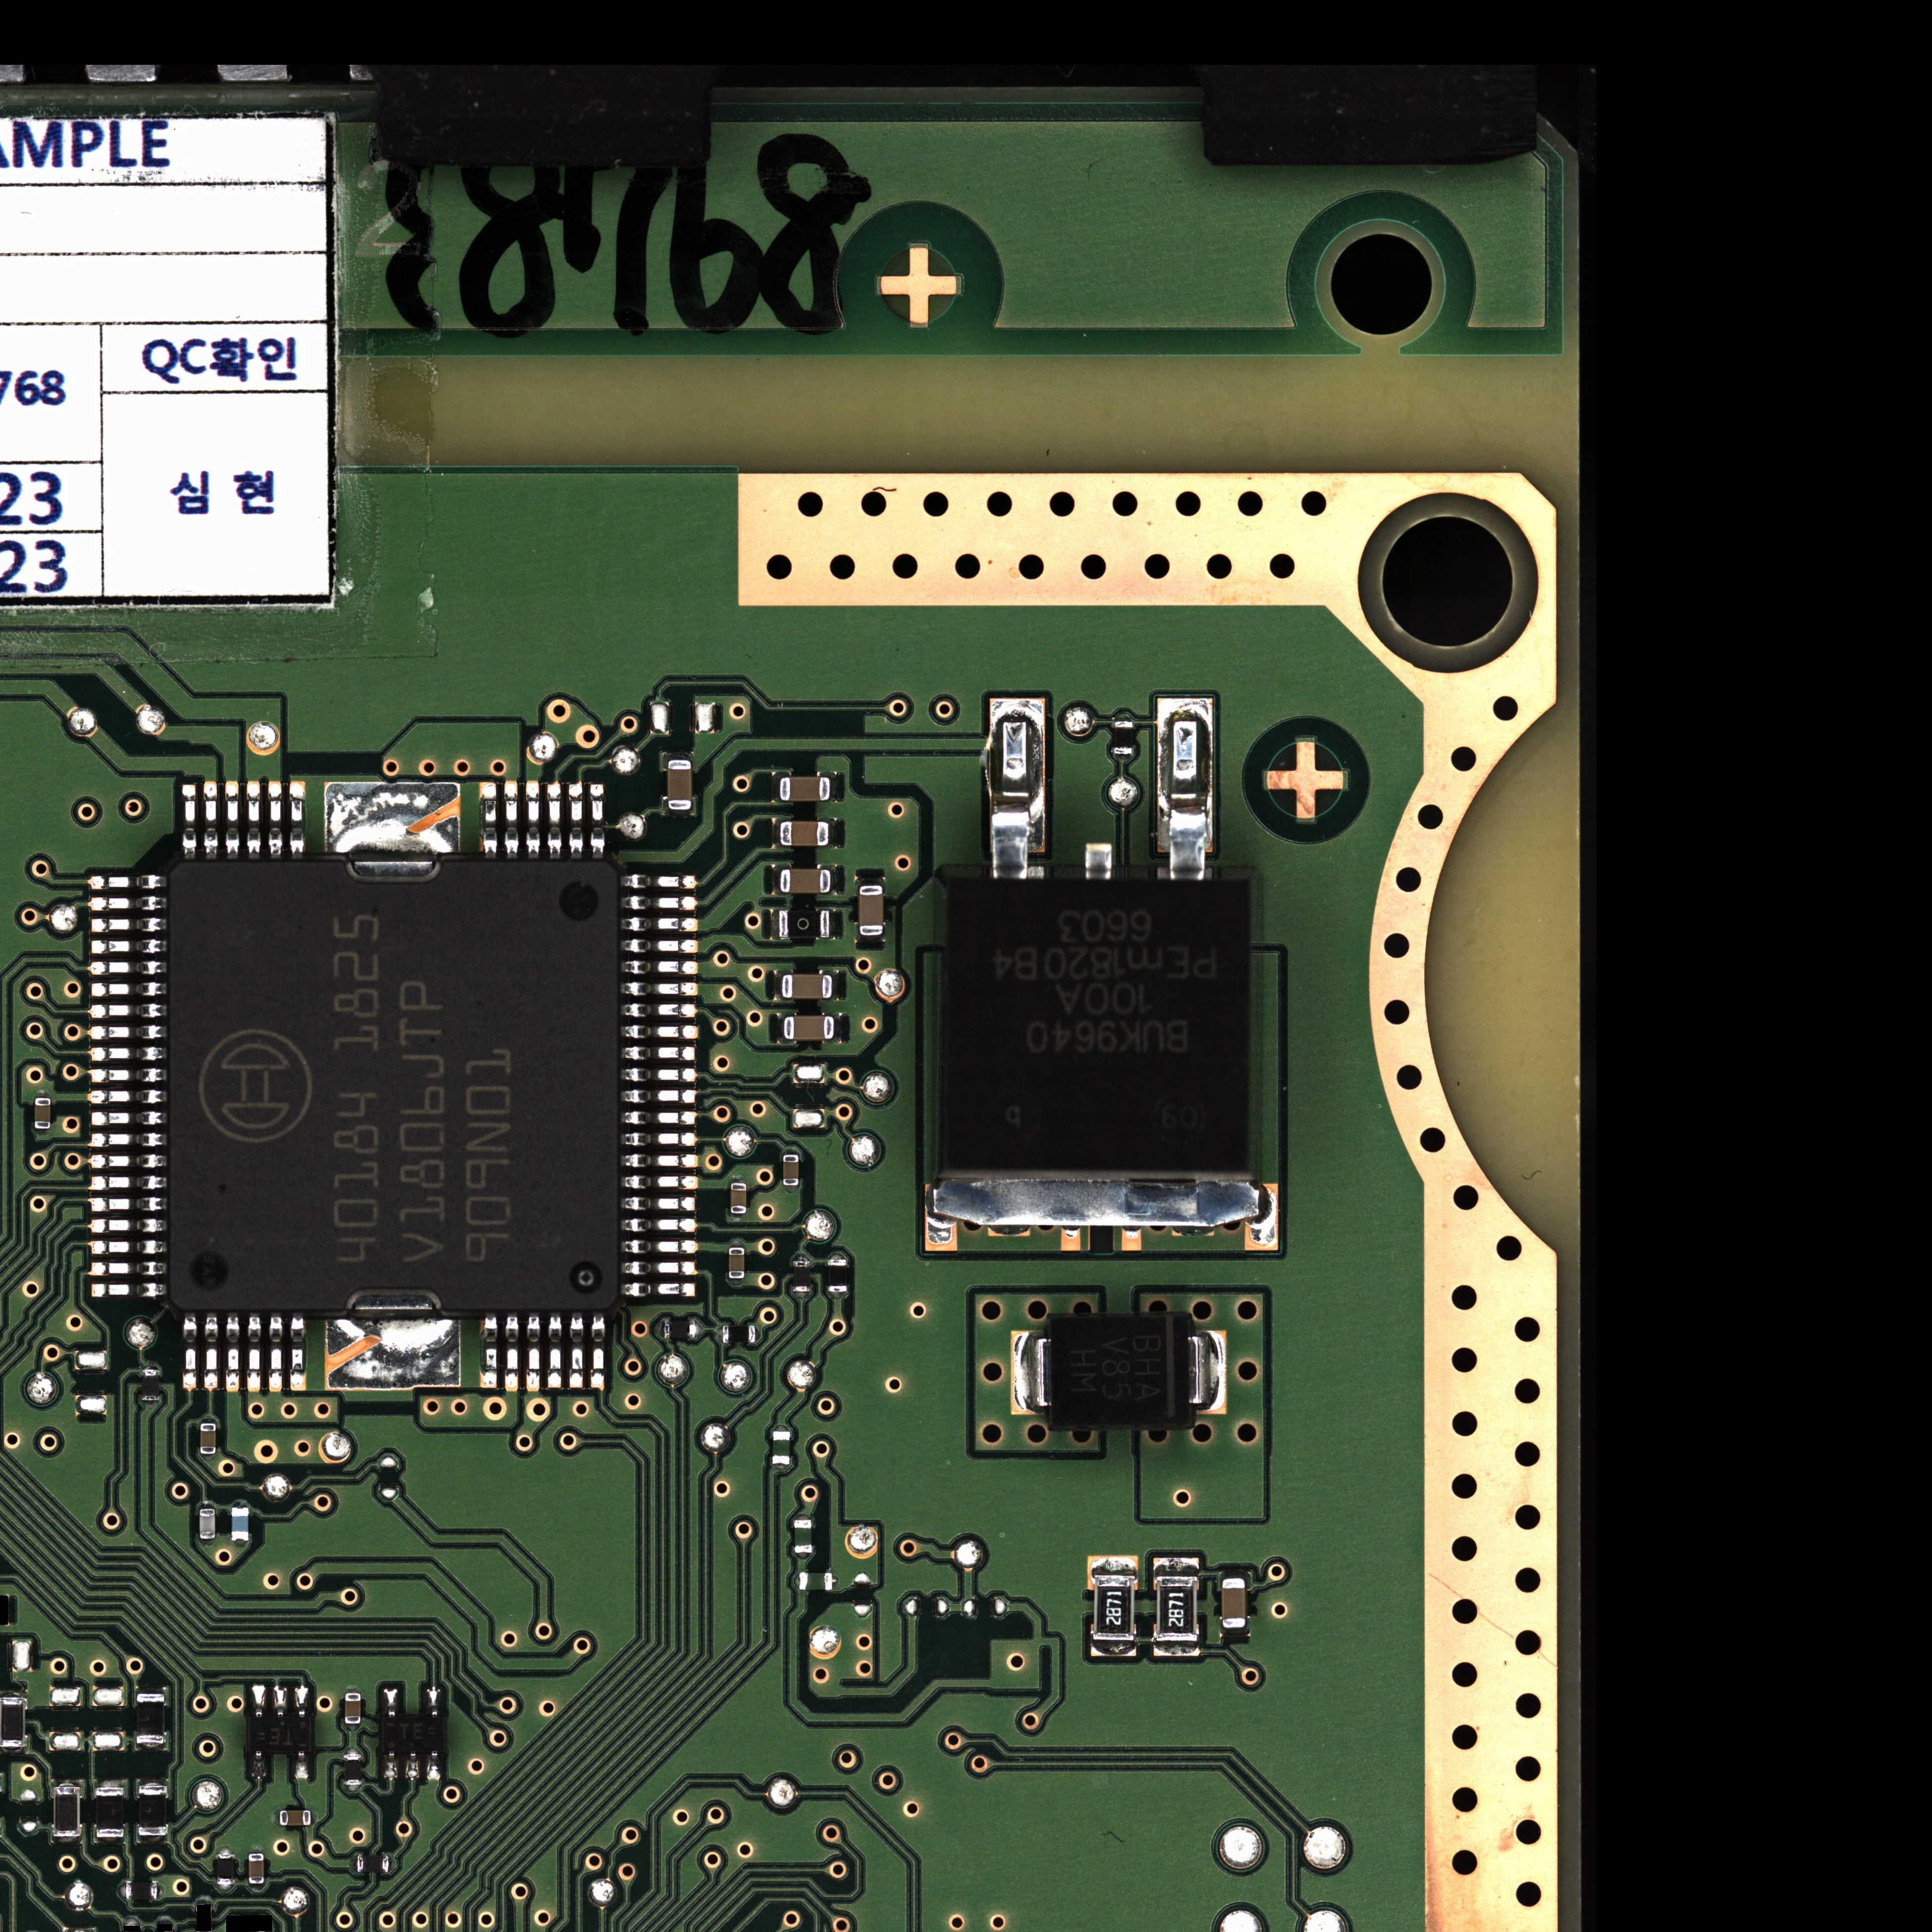Package: (167, 859, 619, 1310), (948, 881, 1249, 1169), (1051, 1315, 1190, 1428), (1094, 1575, 1135, 1641), (1156, 1576, 1197, 1642), (381, 1716, 444, 1752), (248, 1716, 312, 1751), (778, 910, 829, 938), (139, 1786, 167, 1835), (96, 1788, 124, 1837), (137, 1694, 164, 1743), (781, 974, 832, 999), (779, 776, 830, 801), (780, 869, 830, 894), (780, 821, 829, 846), (859, 886, 883, 935), (54, 1787, 79, 1836), (784, 1015, 834, 1040), (668, 760, 692, 810), (0, 1698, 25, 1746), (1222, 1579, 1246, 1628), (1113, 721, 1134, 755), (663, 1318, 696, 1339), (722, 1324, 756, 1343), (772, 1431, 790, 1464), (794, 1520, 812, 1553), (829, 1259, 847, 1292), (216, 1853, 235, 1885), (799, 1573, 832, 1590), (357, 1855, 389, 1873), (125, 1882, 157, 1899), (142, 1369, 159, 1401), (344, 1754, 362, 1785), (232, 1507, 248, 1540), (793, 1260, 810, 1292), (200, 1423, 216, 1454), (35, 1098, 50, 1128), (783, 1155, 799, 1185), (280, 1810, 310, 1826), (248, 1854, 264, 1884), (731, 1183, 746, 1213), (345, 1693, 360, 1724), (200, 1509, 215, 1539), (729, 1248, 744, 1278)
Solder: (925, 1175, 1277, 1252), (987, 697, 1044, 879), (322, 781, 459, 857), (1157, 701, 1212, 881), (327, 1316, 459, 1389), (1011, 1331, 1050, 1414), (1191, 1330, 1226, 1414), (480, 1313, 497, 1390), (480, 781, 497, 860), (89, 896, 168, 912), (89, 1197, 167, 1212), (290, 1313, 306, 1391), (620, 1131, 698, 1147), (622, 1281, 697, 1298), (621, 1174, 698, 1190), (622, 1260, 699, 1276), (90, 1261, 167, 1277), (88, 875, 167, 890), (290, 781, 305, 860), (88, 1025, 167, 1040), (88, 1068, 166, 1083), (89, 1089, 167, 1105), (88, 1046, 166, 1062), (89, 1132, 167, 1148), (621, 960, 699, 975), (91, 1282, 166, 1298), (89, 1175, 166, 1191), (89, 1218, 167, 1234), (621, 1024, 699, 1040), (621, 981, 698, 997), (621, 1153, 699, 1168), (622, 1045, 697, 1061), (89, 1240, 166, 1255), (621, 1239, 698, 1255), (621, 1003, 698, 1018), (90, 982, 167, 997), (89, 961, 168, 975), (90, 1111, 166, 1126), (622, 1089, 698, 1104), (89, 1154, 167, 1169), (621, 1196, 697, 1211), (88, 1004, 166, 1018), (204, 1314, 219, 1392), (526, 1312, 541, 1391), (504, 1313, 519, 1391), (621, 917, 698, 931), (621, 895, 698, 910), (621, 1218, 698, 1233), (91, 939, 167, 954), (91, 918, 167, 932), (621, 1067, 697, 1082), (622, 1111, 698, 1125), (225, 781, 240, 860), (226, 1313, 240, 1392), (622, 874, 697, 889), (569, 1313, 584, 1389), (269, 1313, 283, 1392), (247, 1313, 261, 1392), (548, 1313, 563, 1388), (504, 781, 519, 859), (526, 781, 540, 859), (621, 939, 698, 953), (246, 781, 261, 858), (183, 1314, 197, 1391), (591, 1312, 605, 1389), (547, 782, 562, 858), (268, 781, 282, 859), (204, 781, 218, 859), (569, 782, 583, 859), (182, 784, 196, 859), (590, 783, 604, 859), (1085, 843, 1112, 879), (1089, 1556, 1138, 1574), (1154, 1558, 1199, 1575), (1091, 1641, 1137, 1657), (1153, 1642, 1200, 1656), (251, 1685, 266, 1717), (273, 1686, 288, 1716), (293, 1686, 309, 1716), (405, 1752, 420, 1780), (426, 1752, 440, 1781), (384, 1689, 398, 1717), (294, 1751, 309, 1779), (251, 1751, 266, 1779), (384, 1752, 398, 1780), (427, 1688, 440, 1717), (772, 970, 782, 1000), (774, 1013, 784, 1042), (834, 1013, 843, 1043), (829, 909, 838, 938), (831, 970, 841, 999), (855, 876, 885, 885), (1220, 1628, 1250, 1637), (772, 865, 780, 895), (771, 909, 778, 940), (855, 936, 885, 944), (1219, 1570, 1250, 1578), (135, 1743, 166, 1751), (664, 752, 693, 760), (773, 819, 780, 848), (96, 1780, 125, 1787), (828, 819, 836, 848), (663, 810, 694, 817), (136, 1687, 165, 1694), (830, 866, 837, 895), (773, 773, 780, 802), (830, 772, 837, 802), (138, 1779, 168, 1786), (138, 1835, 167, 1842), (53, 1779, 80, 1787), (1113, 712, 1133, 721), (0, 1747, 26, 1754), (97, 1836, 124, 1843), (34, 1089, 51, 1098), (772, 1464, 791, 1472), (1112, 754, 1134, 761), (54, 1836, 80, 1842), (656, 1320, 664, 1339), (34, 1129, 51, 1137), (827, 1252, 847, 1259), (828, 1292, 847, 1299), (782, 1146, 799, 1155), (792, 1292, 811, 1300), (782, 1186, 800, 1194), (792, 1253, 810, 1260), (773, 1424, 791, 1431), (794, 1512, 812, 1520), (231, 1541, 249, 1548), (730, 1175, 746, 1183), (728, 1278, 745, 1286), (729, 1239, 744, 1248), (730, 1213, 747, 1221), (231, 1500, 249, 1507), (695, 1320, 702, 1338), (794, 1553, 812, 1560), (142, 1401, 160, 1407), (249, 1846, 264, 1854), (142, 1362, 158, 1369), (716, 1325, 722, 1343), (832, 1573, 839, 1591), (200, 1416, 216, 1423), (199, 1539, 216, 1546), (345, 1687, 361, 1693), (197, 1897, 212, 1904), (793, 1573, 799, 1590), (249, 1884, 264, 1890), (756, 1326, 762, 1343), (157, 1917, 172, 1924), (123, 1918, 141, 1924), (218, 1885, 233, 1892), (199, 1502, 215, 1508), (345, 1724, 360, 1731), (157, 1883, 164, 1898), (351, 1856, 357, 1872), (218, 1846, 232, 1853), (200, 1454, 216, 1459), (274, 1811, 280, 1825), (119, 1883, 125, 1897), (345, 1748, 360, 1754), (346, 1786, 361, 1791), (310, 1811, 316, 1825), (388, 1857, 393, 1871)
